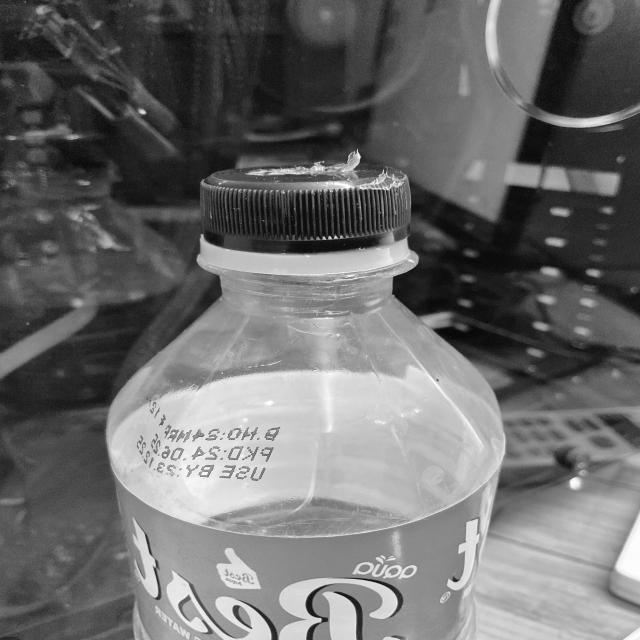Good-cap-Df0S: (190, 154, 419, 276)
